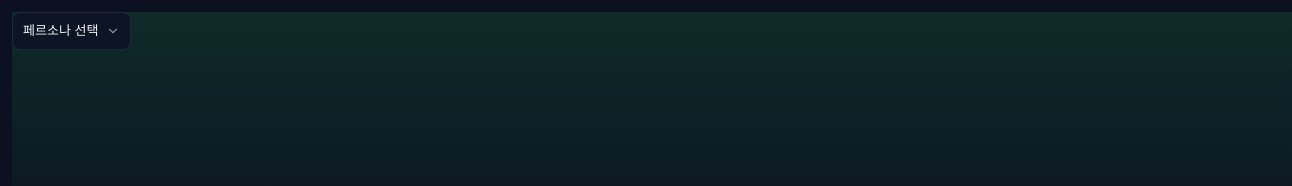
PersonaPaneSelect › 키보드: Escape로 메뉴가 닫힌다
Press the mouse on the button "페르소나 선택" at [72, 31], box [12, 12, 131, 50]
Click the button "페르소나 선택". click: [72, 31]
box: [12, 12, 131, 50]
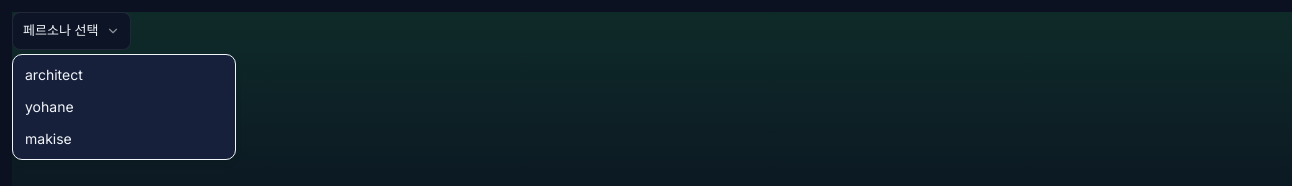
Press Escape in the menu, box [12, 54, 236, 160]
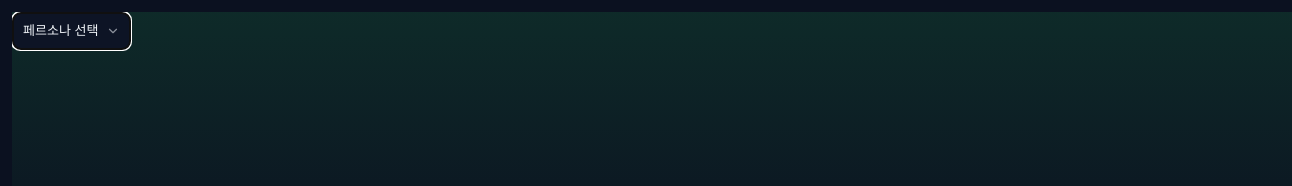
Check: the menu is gone
